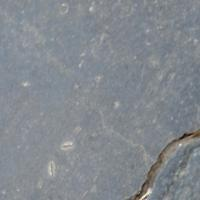crack: (128, 128, 199, 199)
